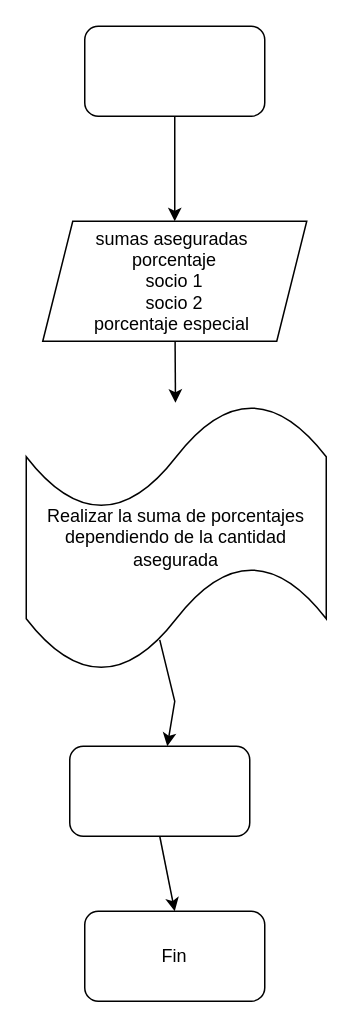
Image size: 353x1028. Some labels were removed from this diagram. Each missing label, with the box of its shape:
Cantidad y resultado: (68, 745, 250, 836)
inicio: (83, 25, 265, 116)
